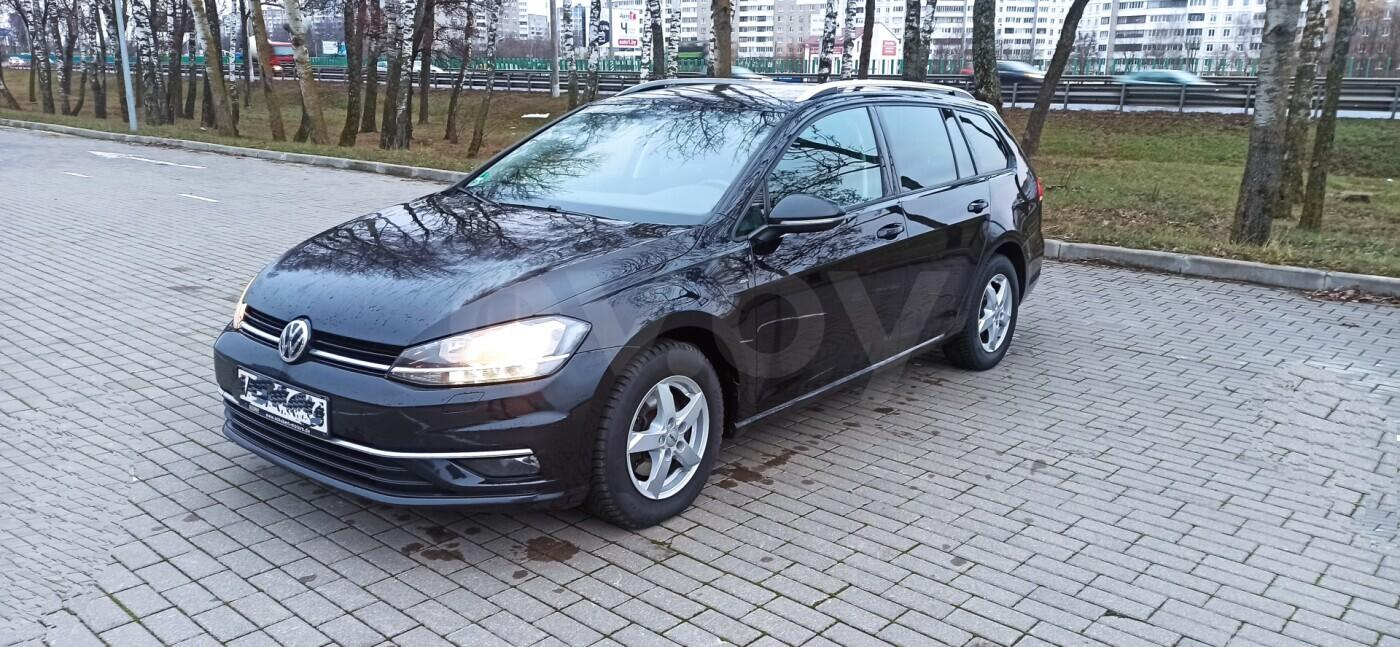Golf_2017-2021: (210, 71, 1046, 531)
